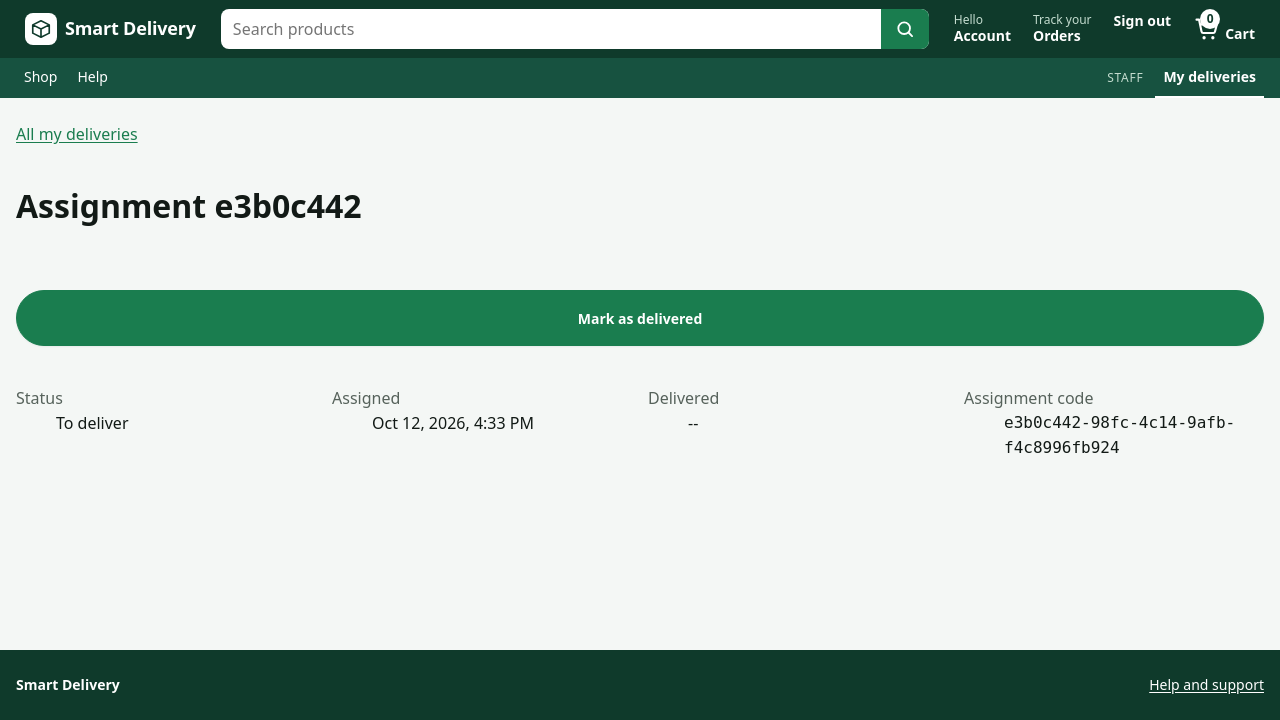
completing a delivery › shows not-allowed on a 403 and keeps the agent signed in
This screenshot has width=1280, height=720.
Click the button "Mark as delivered": (640, 318) [16,290,1264,346]
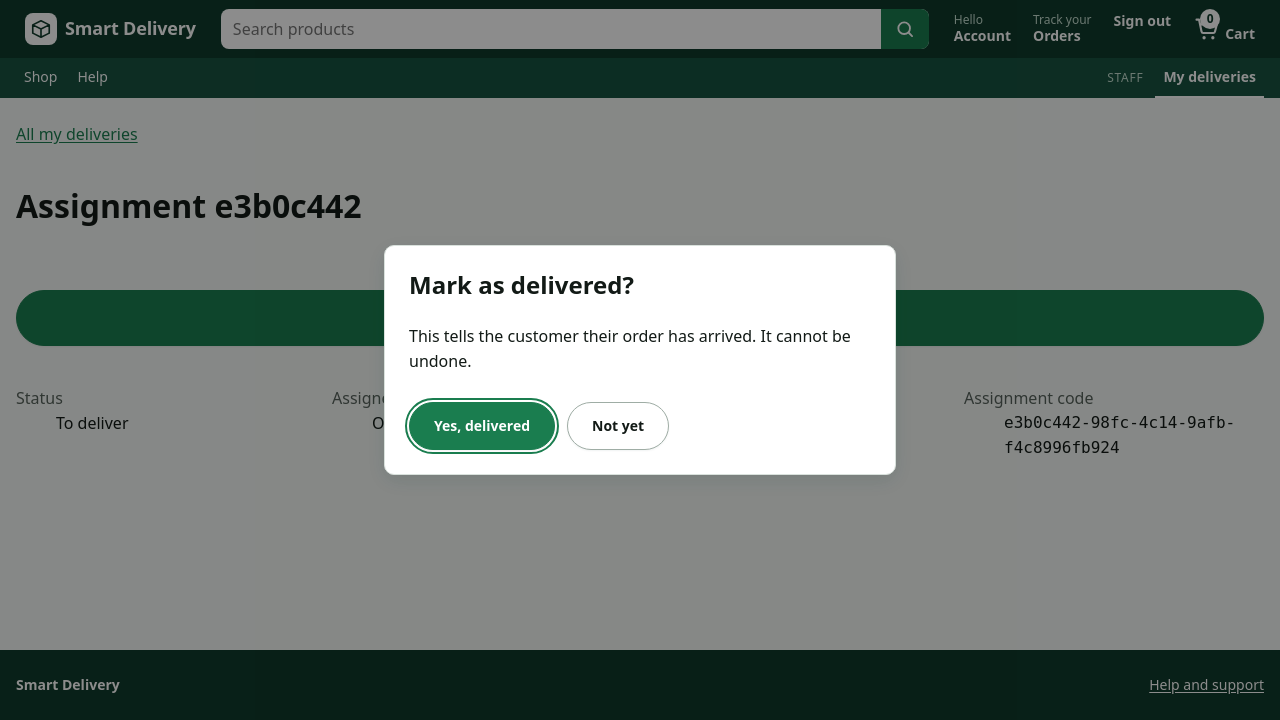
Click the button "Yes, delivered": (482, 426) [409,402,555,450]
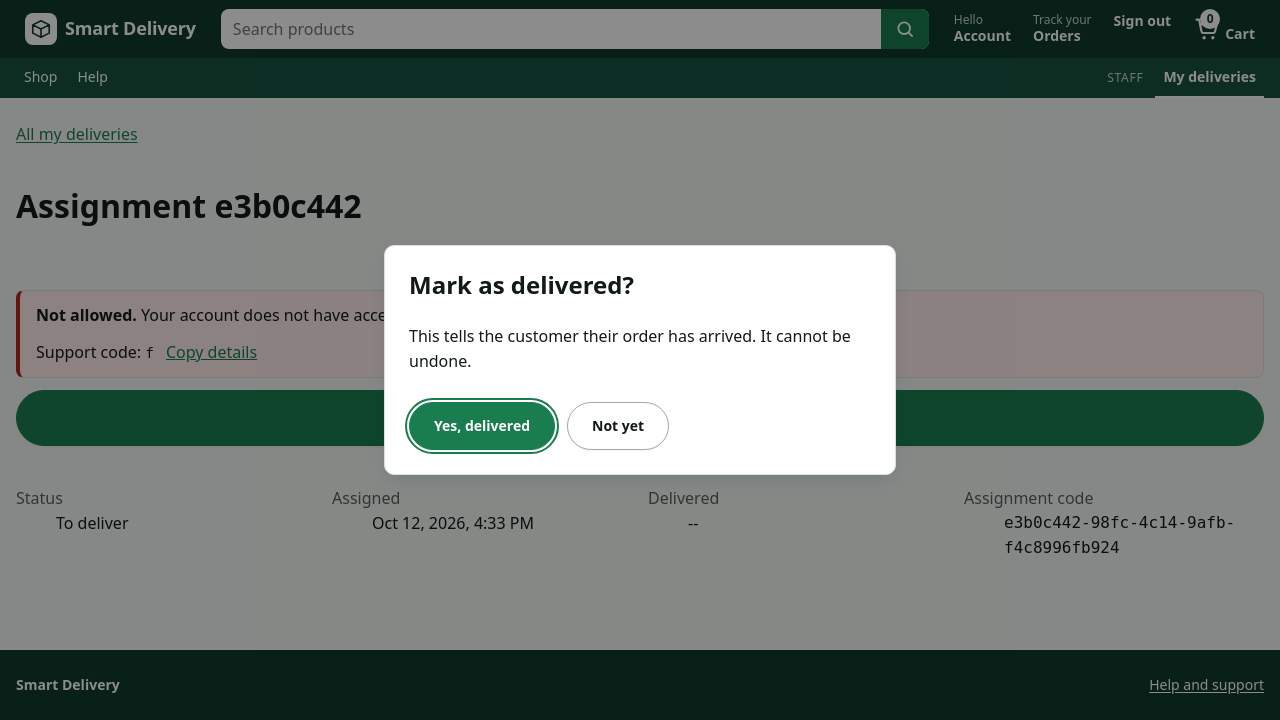
Expected: the button "Sign out" is shown, [1105,8,1180,50]
Result: the text "Not allowed." is shown at [36,304,137,326]
